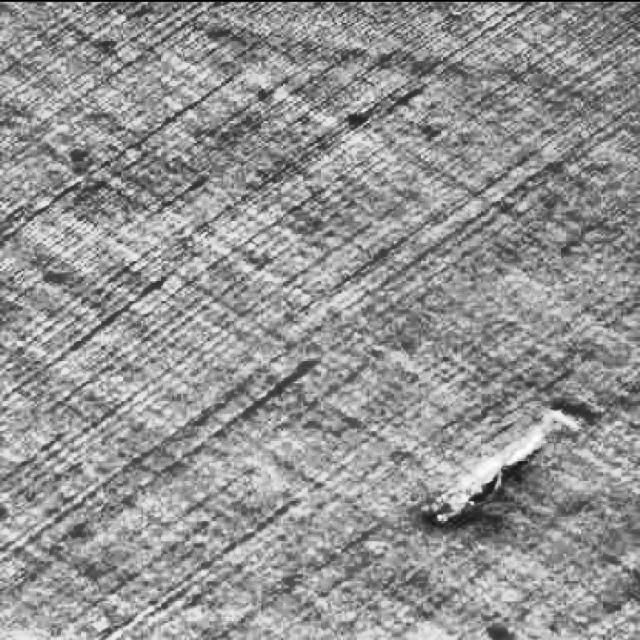hole: (414, 392, 593, 542)
